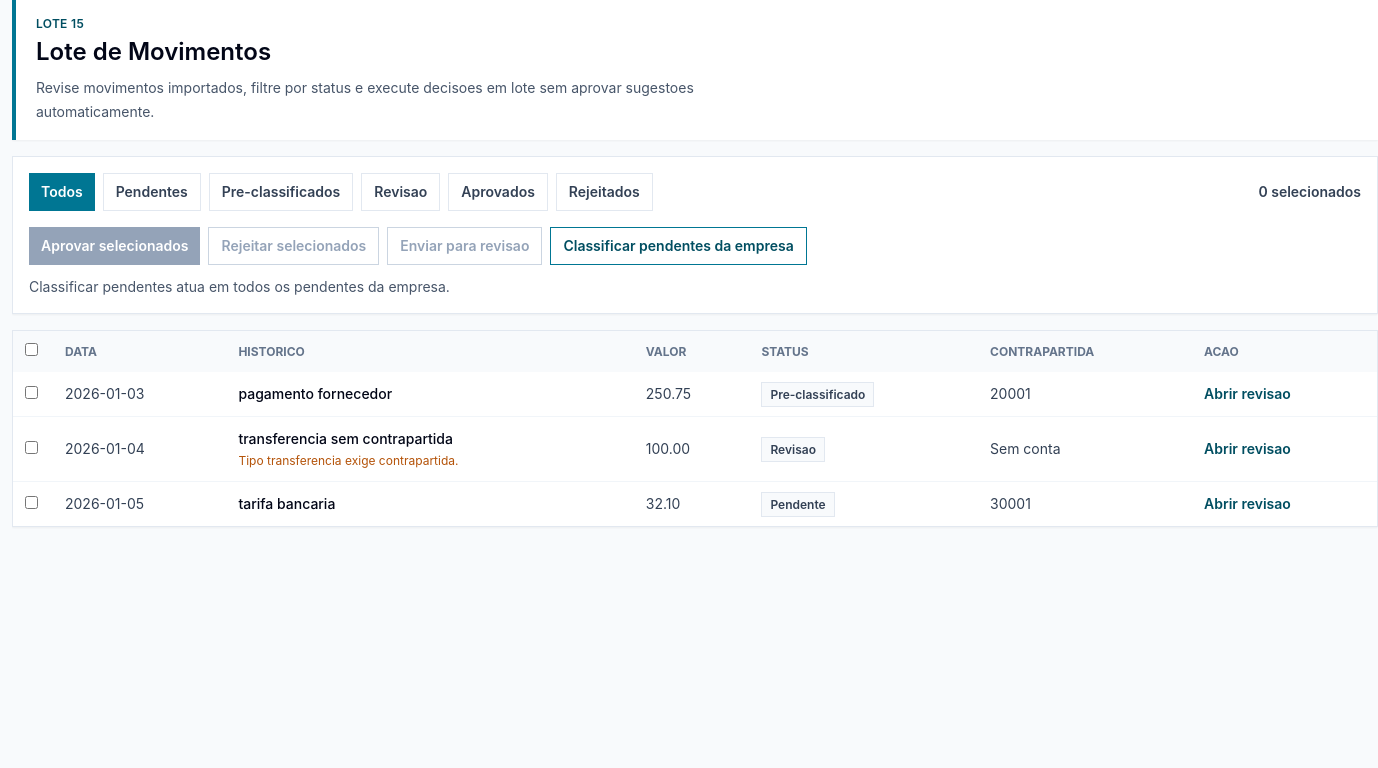
LoteMovimentosPage › envia selecionados, confirma o resultado e abre a central
This screenshot has width=1378, height=768.
Check: the text "Classificar pendentes atua em todos os pendentes da empresa." is shown, box [29,278,450,295]
Click the checkbox named "Selecionar movimento 93" at (32, 502), box [25,496,38,509]
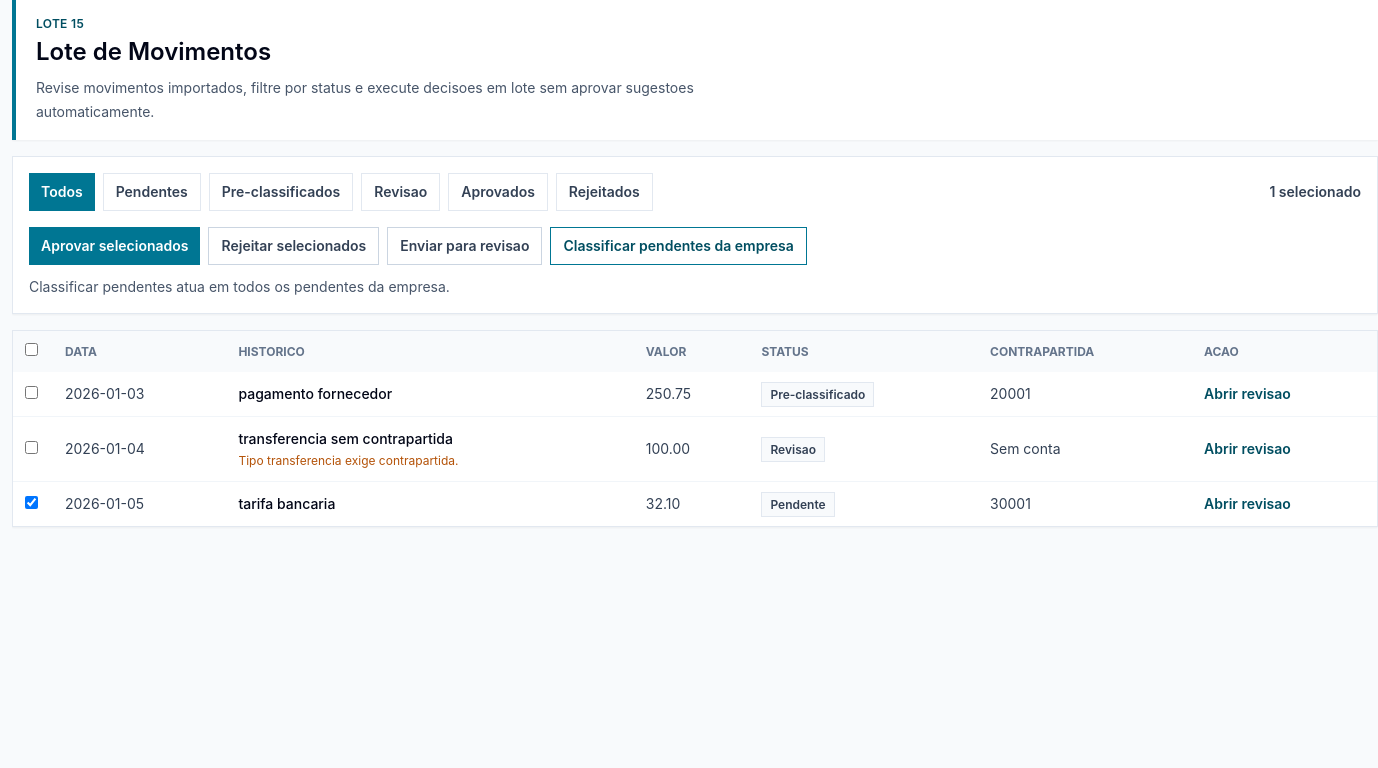
Click the button "Enviar para revisao" at (465, 246), box [387,227,542,265]
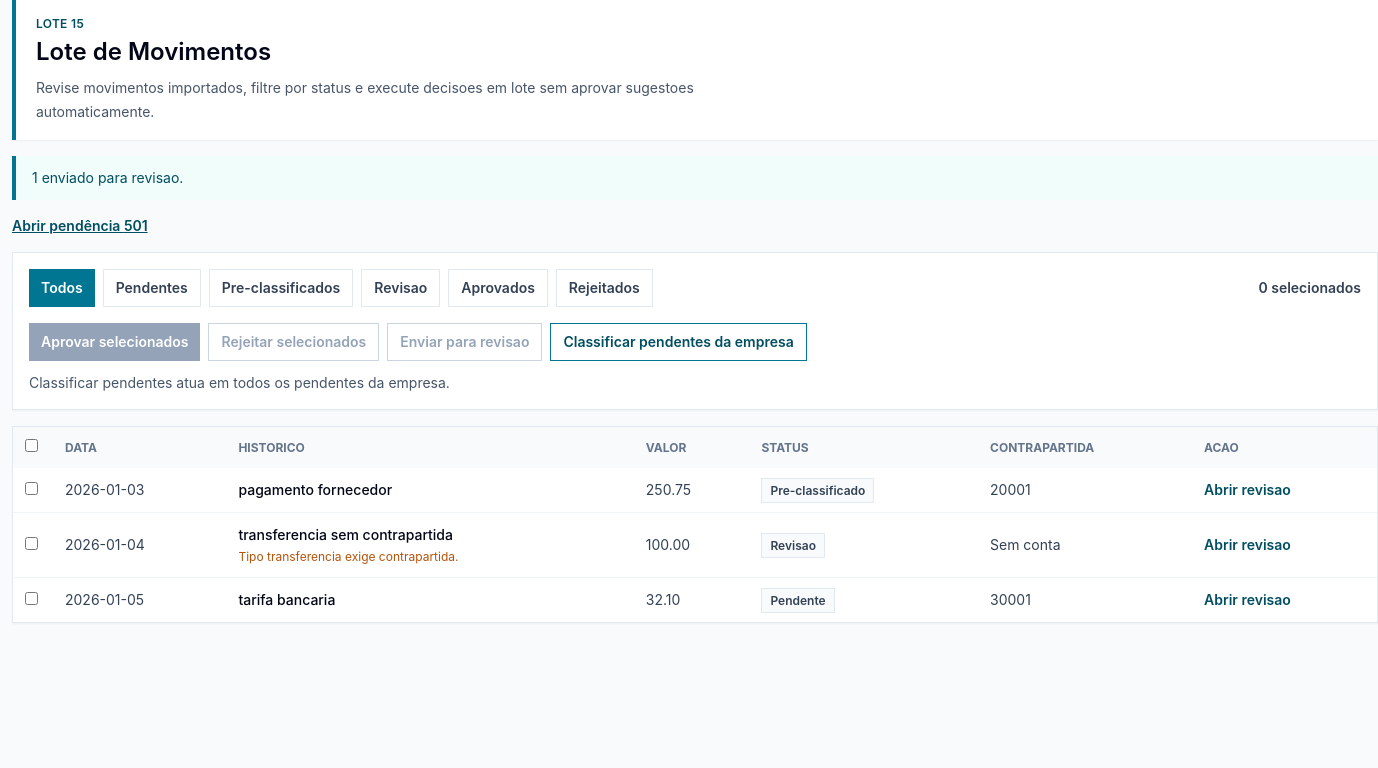
Check: the message shows "1 enviado para revisao", box [32,169,183,186]
Click the button "Classificar pendentes da empresa" at (679, 342), box [550,323,807,361]
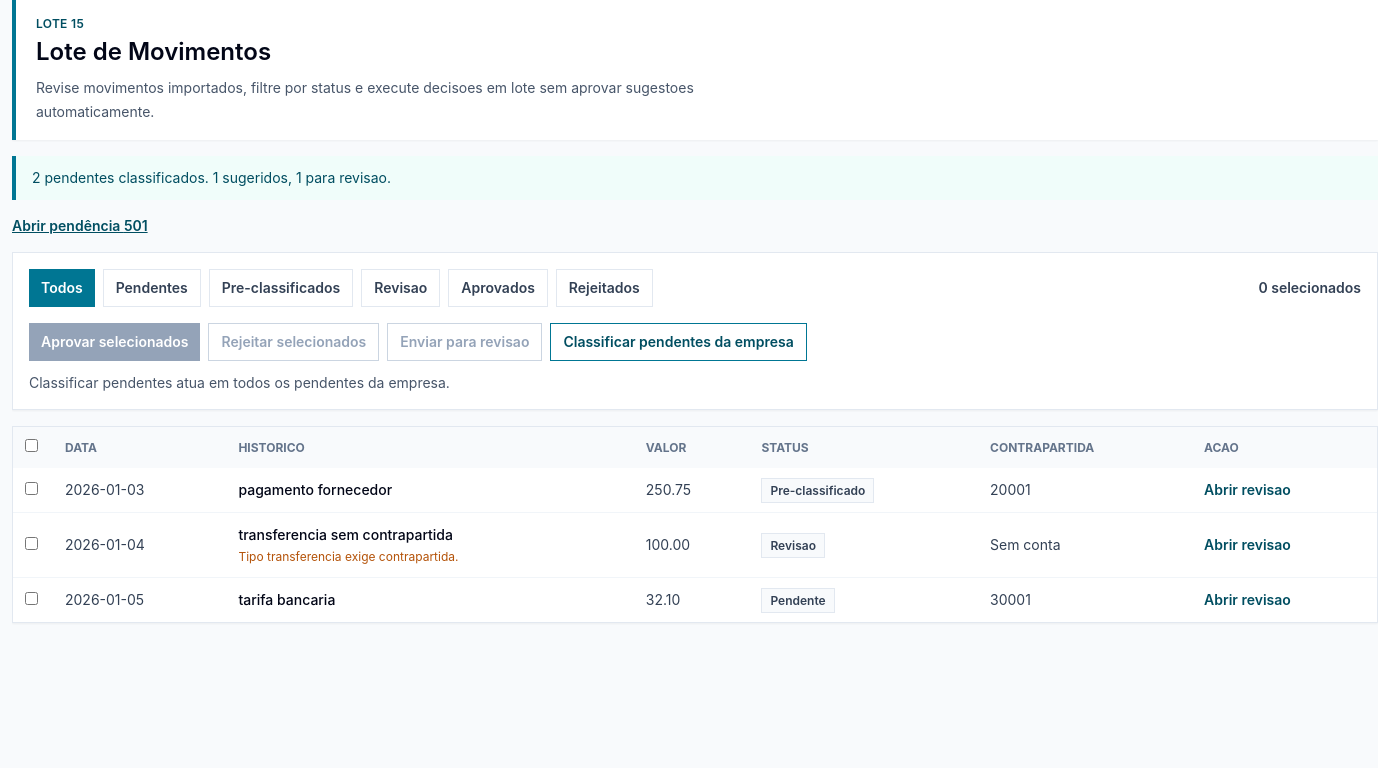
Check: the message shows "2 pendentes classificados.", box [32,169,391,186]
